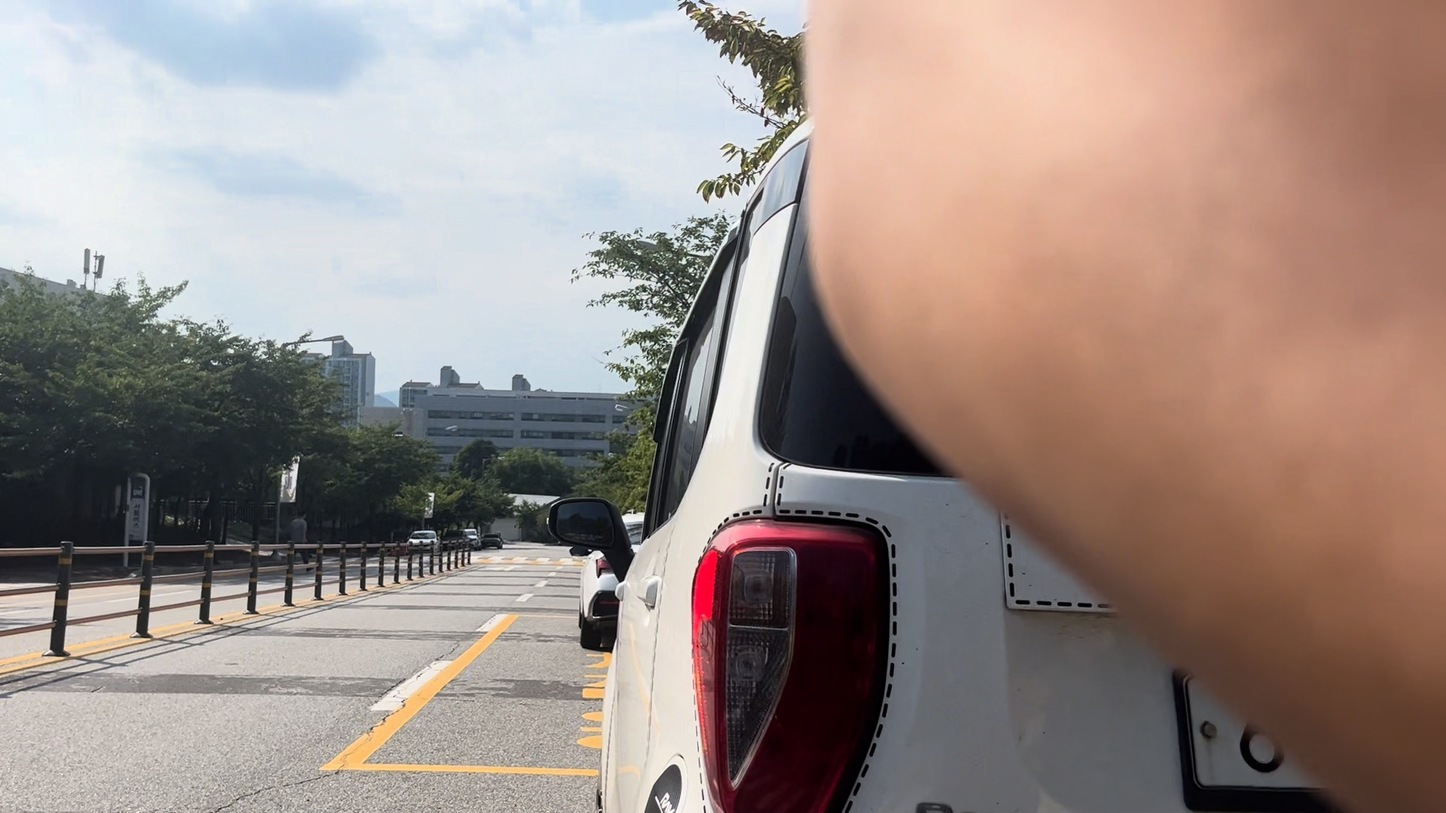side_mirror: (548, 498, 633, 580)
tail_light: (692, 520, 886, 812), (593, 557, 612, 576)
